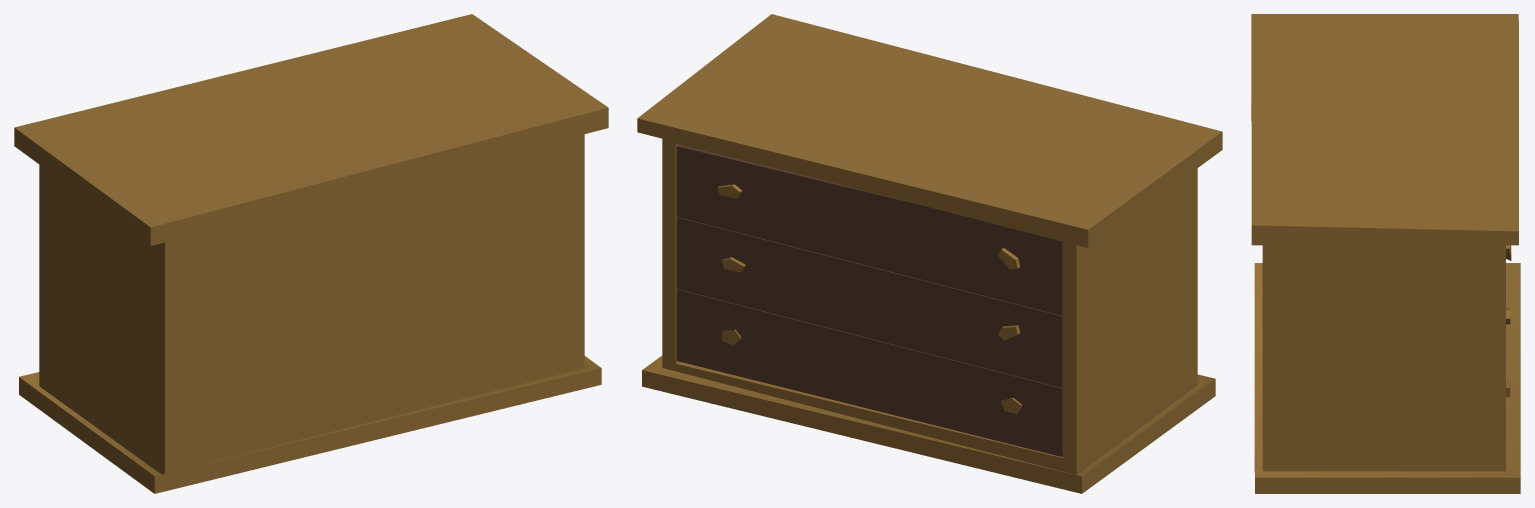
The model's file is kitchen ambry .fbx.
The picture shows the model from 3 angles, left to right: view 1: azimuth 30°, elevation 25°; view 2: azimuth 150°, elevation 25°; view 3: azimuth 270°, elevation 25°; orthographic projection. The views are drawn at different scales.
Parts seen in each view (by area): view 1: kitchen ambry; view 2: kitchen ambry, kitchen ambry door 1, kitchen ambry door 2, kitchen ambry door 3; view 3: kitchen ambry.
Boxes of the visible parts, left/top/right/bottom form: kitchen ambry: left=14, top=14, right=608, bottom=493; kitchen ambry: left=637, top=14, right=1222, bottom=493; kitchen ambry door 1: left=676, top=144, right=1062, bottom=315; kitchen ambry door 2: left=676, top=217, right=1062, bottom=387; kitchen ambry door 3: left=676, top=289, right=1062, bottom=456; kitchen ambry: left=1251, top=14, right=1520, bottom=493.
Size of the model in its own units: 2.14 by 1.23 by 1.11.
